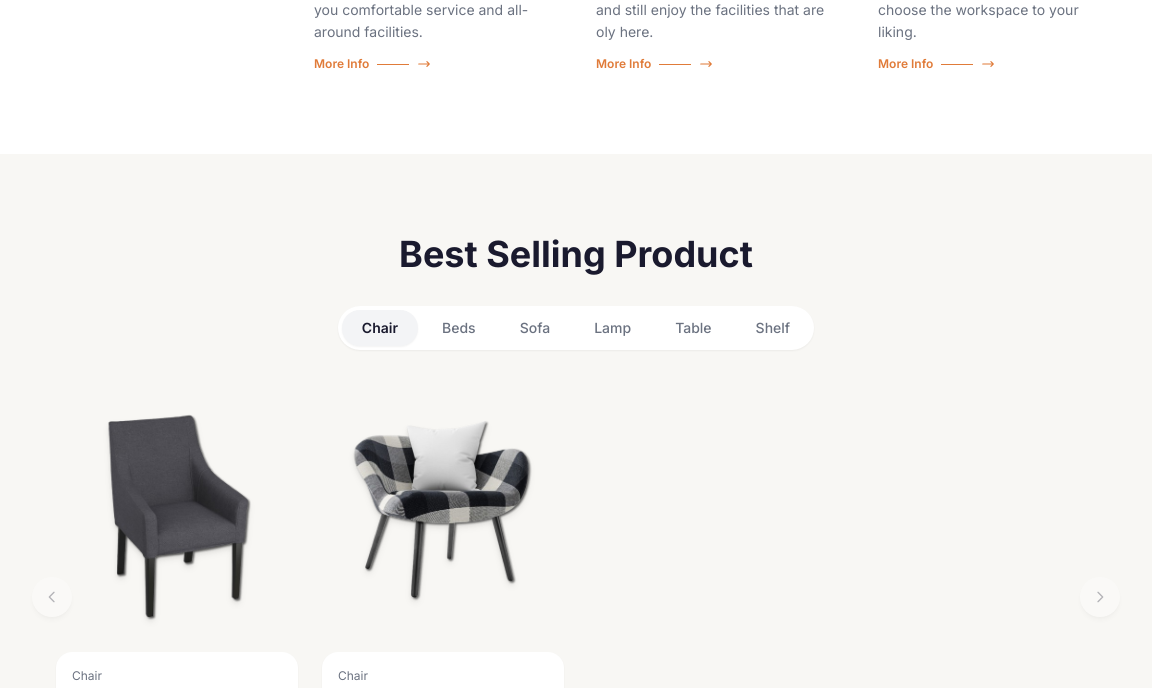
Test: HomePage › switches to Beds category on tab click
(page scrolled)
Click the button "Beds".
click(459, 328)  # box [422,310,496,346]
(page scrolled)
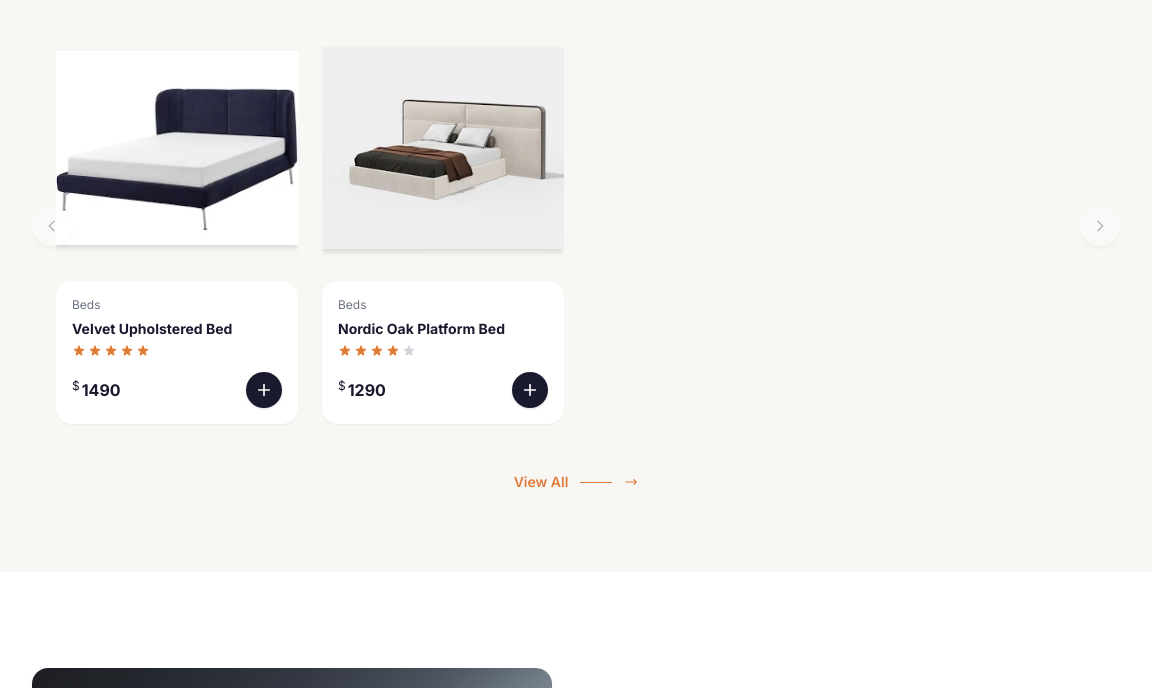
Expected: the link "Velvet Upholstered Bed" is shown, [72,320,232,337]
